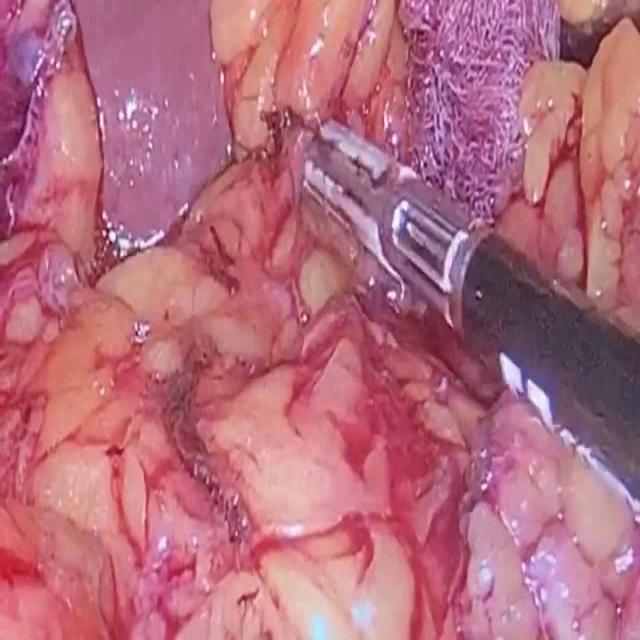surgical-tool: (302, 116, 640, 519)
